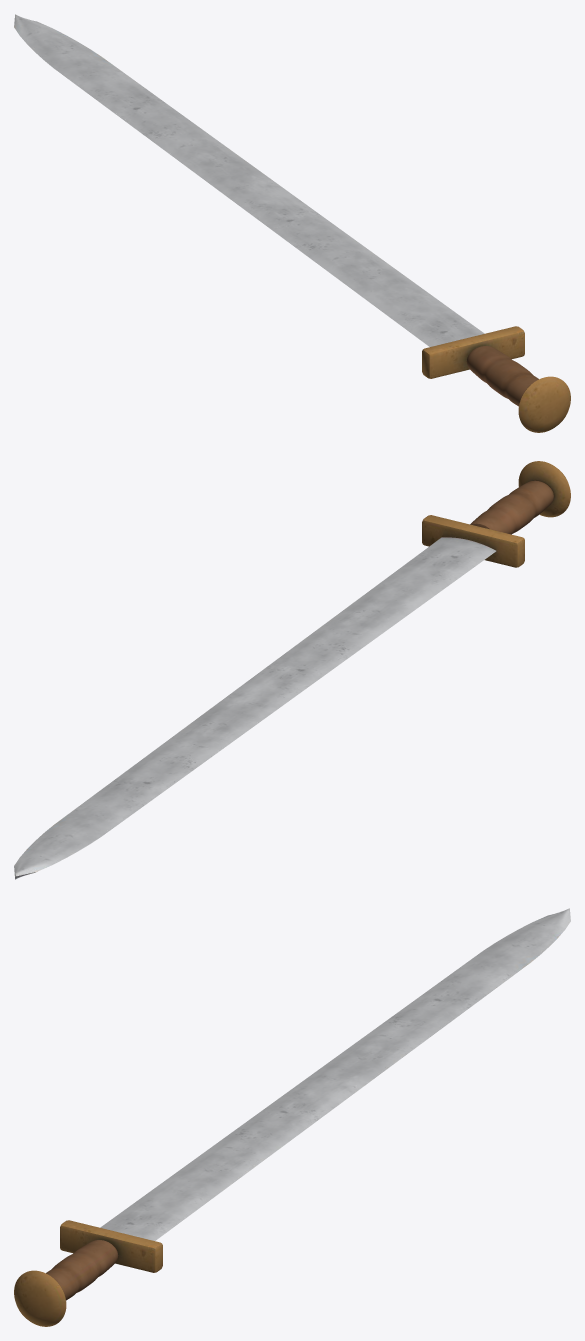
The model's file is bronze_guard_spatha.glb.
The picture shows the model from 3 angles, top to bottom: view 1: azimuth 30°, elevation 25°; view 2: azimuth 150°, elevation 25°; view 3: azimuth 330°, elevation 25°; orthographic projection.
Parts seen in each view (by area): view 1: bronze_guard_spatha; view 2: bronze_guard_spatha; view 3: bronze_guard_spatha.
Part boxes in pixels (bbox=[...]): bronze_guard_spatha: bbox=[14, 14, 570, 432]; bronze_guard_spatha: bbox=[14, 461, 570, 879]; bronze_guard_spatha: bbox=[14, 908, 570, 1326].
Bounding box in the file's own units: 0.0915 × 0.0493 × 0.87.
1 material, 1 textured.
